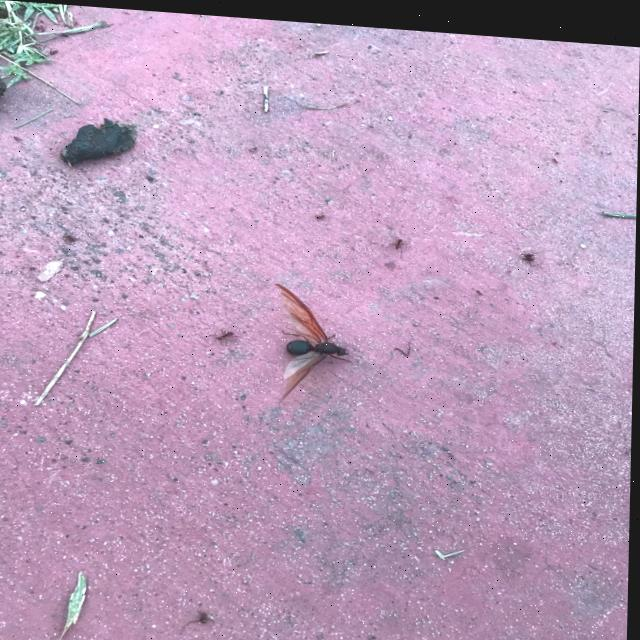Alive-Female-Alate: (273, 279, 361, 405)
